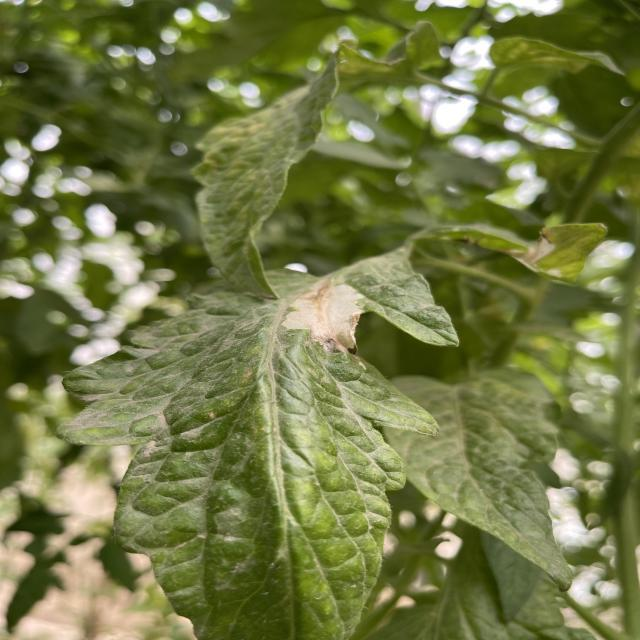Tuta absoluta: (278, 261, 389, 368)
